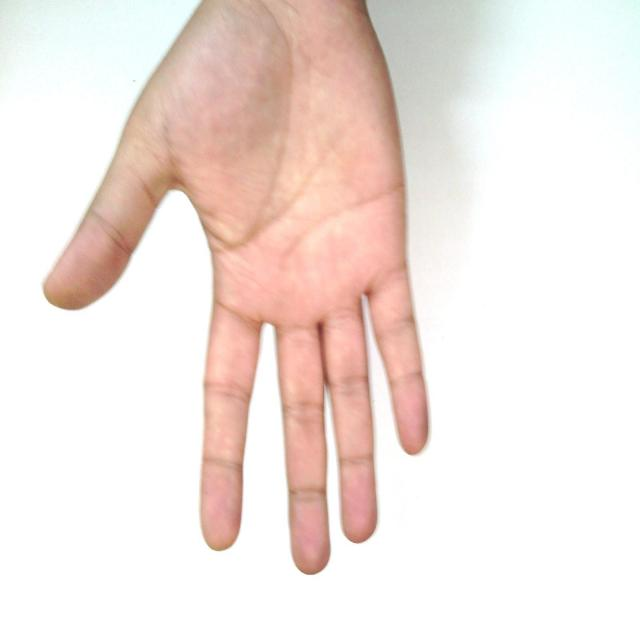others: (39, 1, 568, 584)
